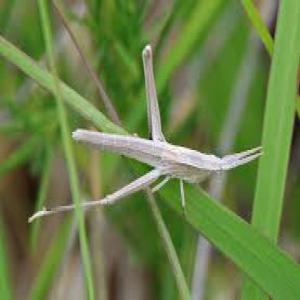locust: (62, 50, 258, 212)
